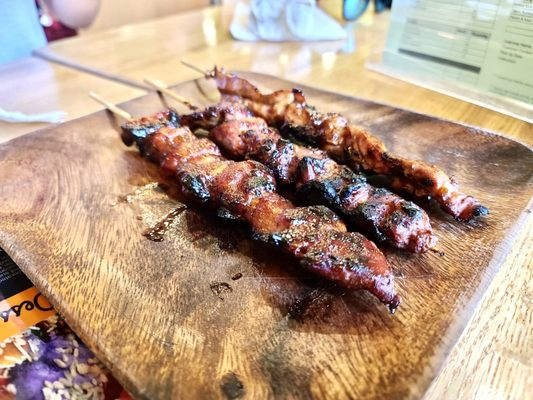curry: (1, 1, 530, 400)
sandwich: (0, 69, 513, 400)
